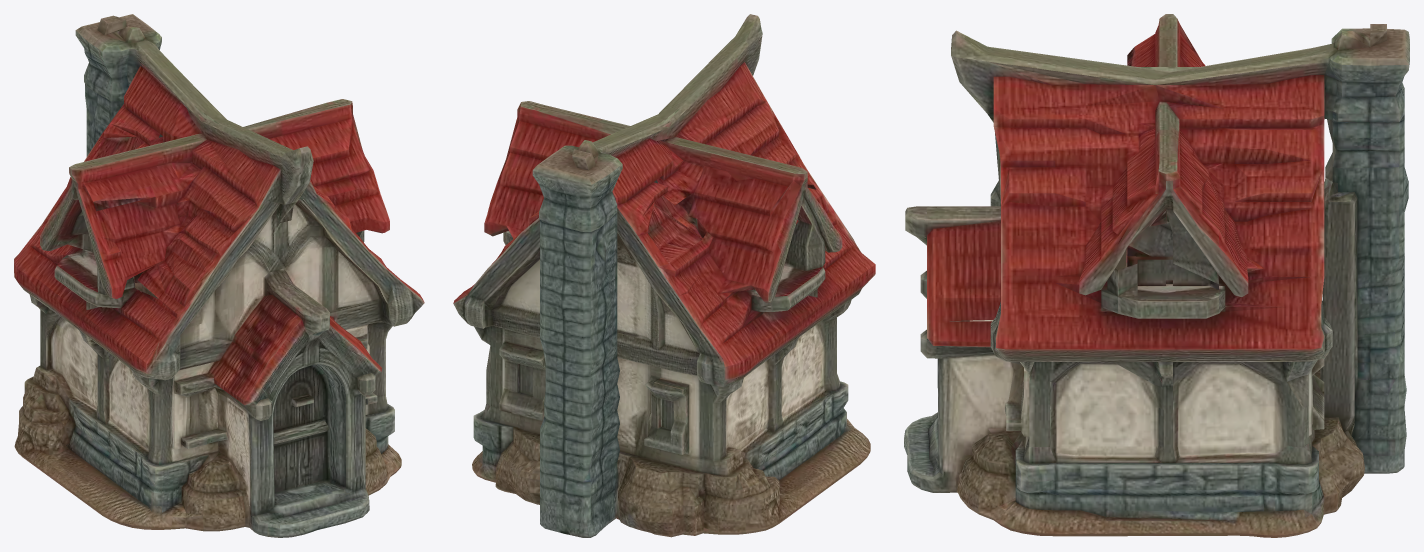
File: cottage_red.glb
3 views of the same model, side by side, from view 1: azimuth 30°, elevation 25°; view 2: azimuth 150°, elevation 25°; view 3: azimuth 270°, elevation 25° (orthographic). The views are drawn at different scales.
Size of the model in its own units: 1.5 by 1.78 by 1.9.
1 material, 1 textured.
